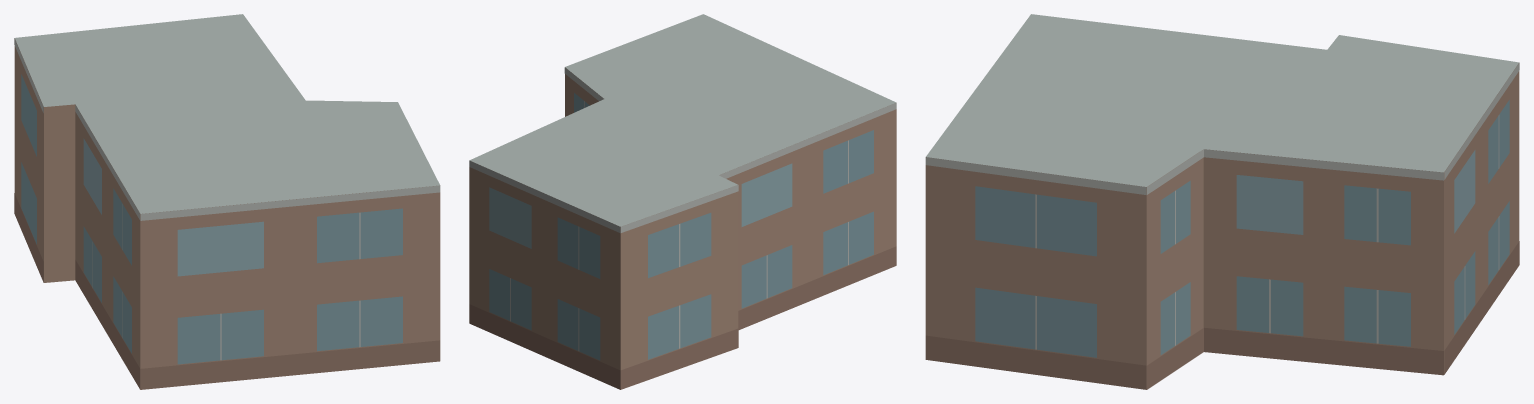
The model's file is survey-upis-33041230.glb.
The picture shows the model from 3 angles, left to right: view 1: azimuth 30°, elevation 25°; view 2: azimuth 150°, elevation 25°; view 3: azimuth 270°, elevation 25°; orthographic projection. The views are drawn at different scales.
Parts seen in each view (by area): view 1: survey-upis-33041230.tmp; view 2: survey-upis-33041230.tmp; view 3: survey-upis-33041230.tmp.
Boxes of the visible parts, box(x1,y1,x2,y2) form: survey-upis-33041230.tmp: box(14, 14, 440, 389); survey-upis-33041230.tmp: box(469, 14, 896, 389); survey-upis-33041230.tmp: box(925, 14, 1519, 389).
Size of the model in its own units: 11.18 by 6.1 by 16.2.
